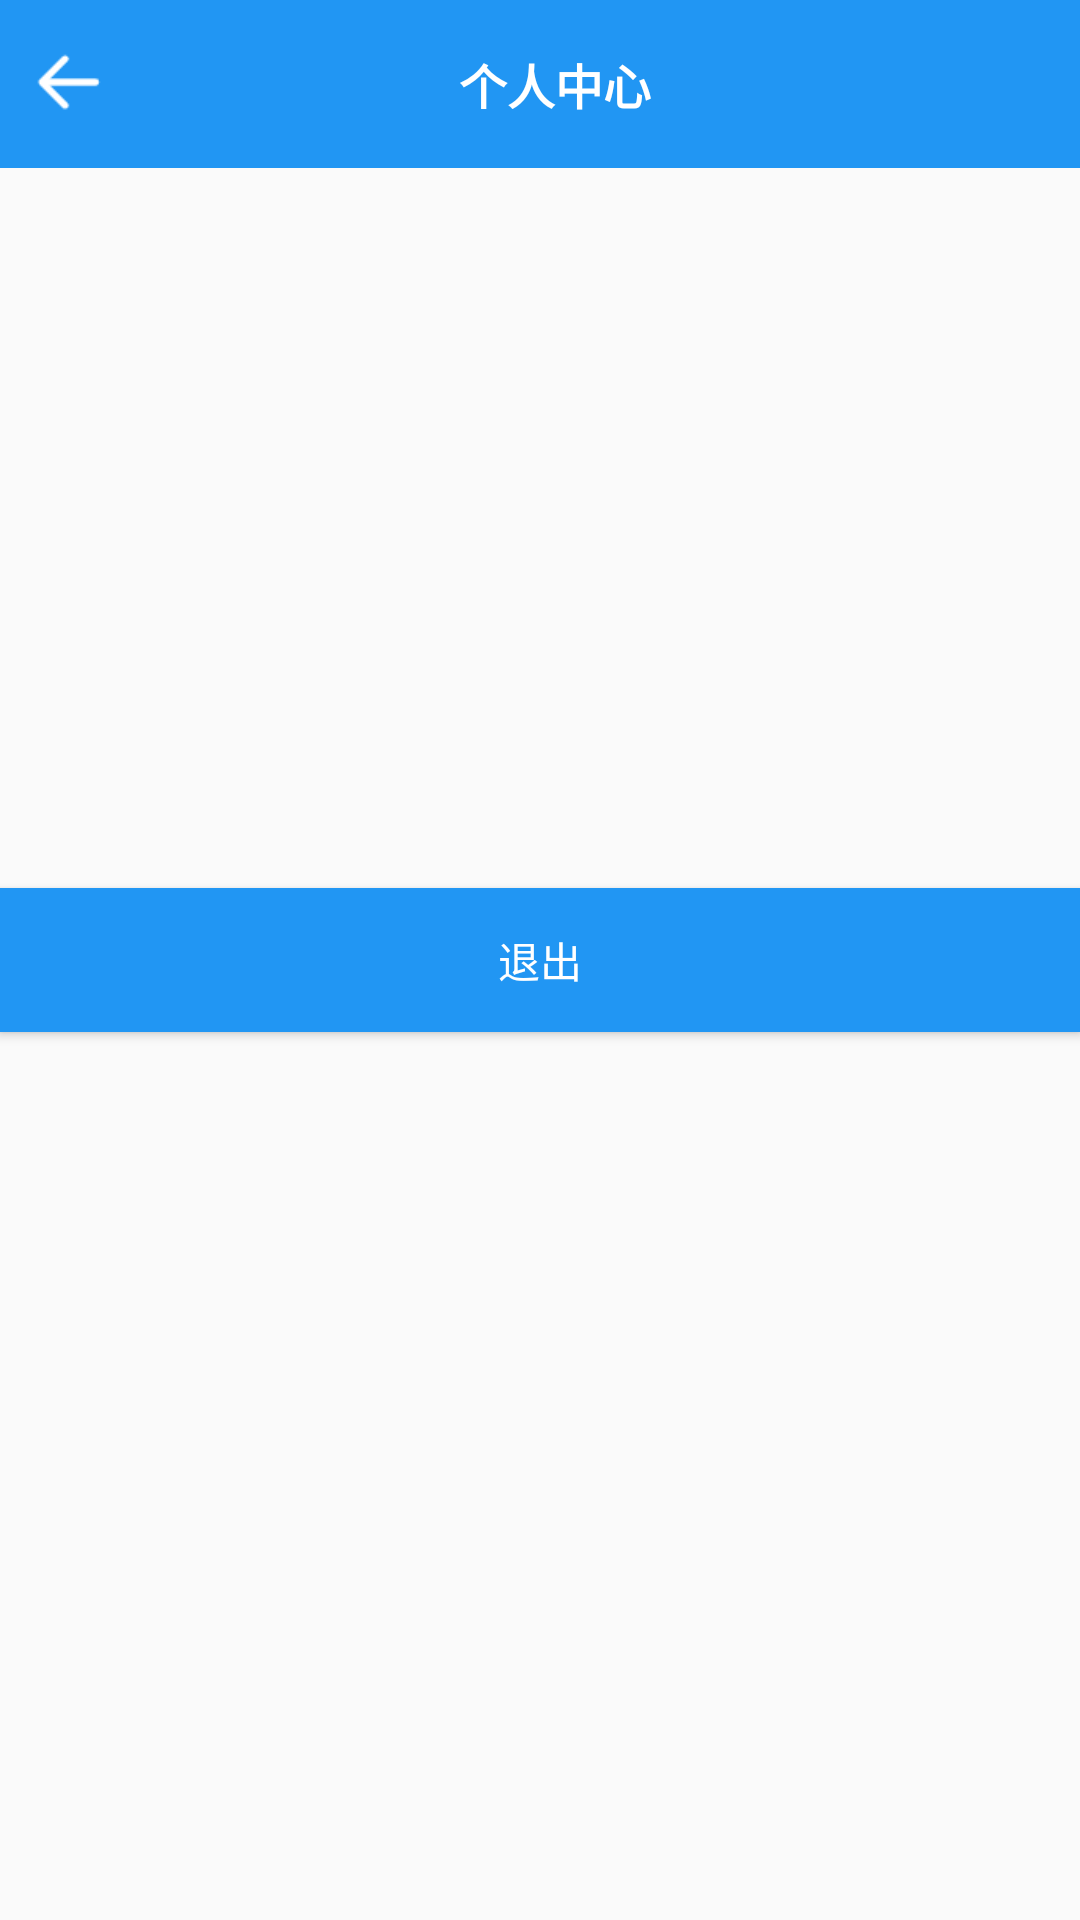

Where icons sit on this 1080 × 1920 app screen, as bbox(x1, y1, x2, y2):
back: bbox(37, 54, 100, 110)
